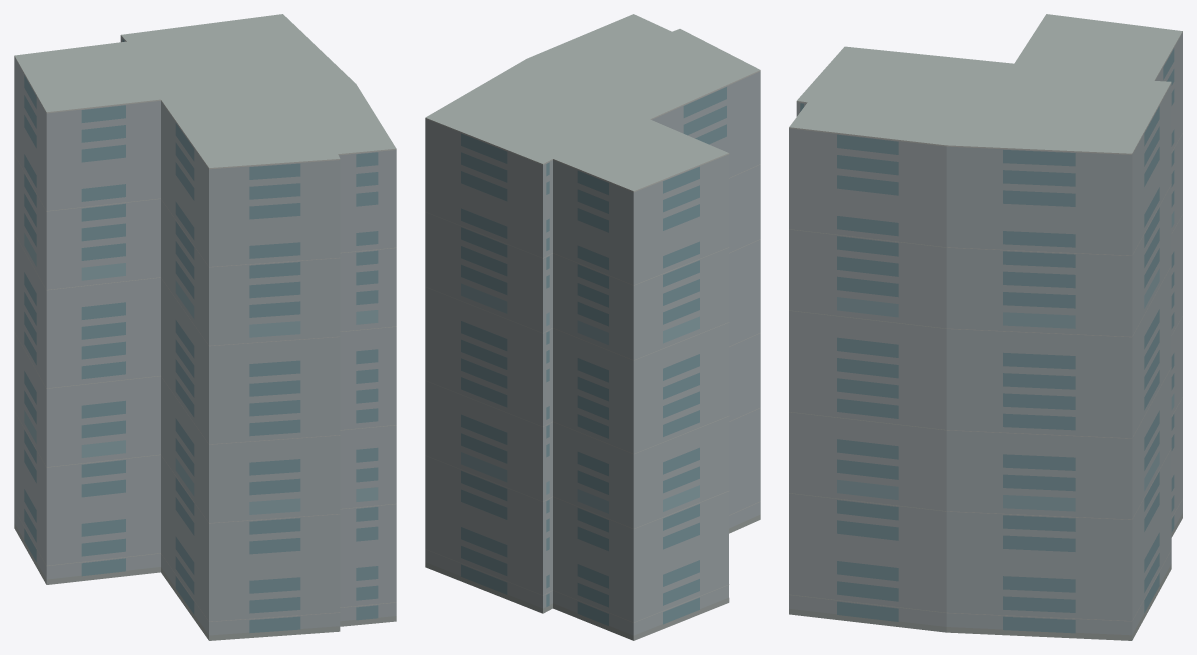
The model's file is survey-upis-32521639.glb.
3 views of the same model, side by side, from view 1: azimuth 30°, elevation 25°; view 2: azimuth 150°, elevation 25°; view 3: azimuth 270°, elevation 25° (orthographic). The views are drawn at different scales.
Visible parts, largest first — view 1: survey-upis-32521639.tmp; view 2: survey-upis-32521639.tmp; view 3: survey-upis-32521639.tmp.
Part boxes in pixels (bbox=[...]): survey-upis-32521639.tmp: bbox=[14, 14, 396, 640]; survey-upis-32521639.tmp: bbox=[425, 14, 760, 640]; survey-upis-32521639.tmp: bbox=[789, 14, 1182, 640].
Bounding box in the file's own units: 59.51 × 96.7 × 70.84.
